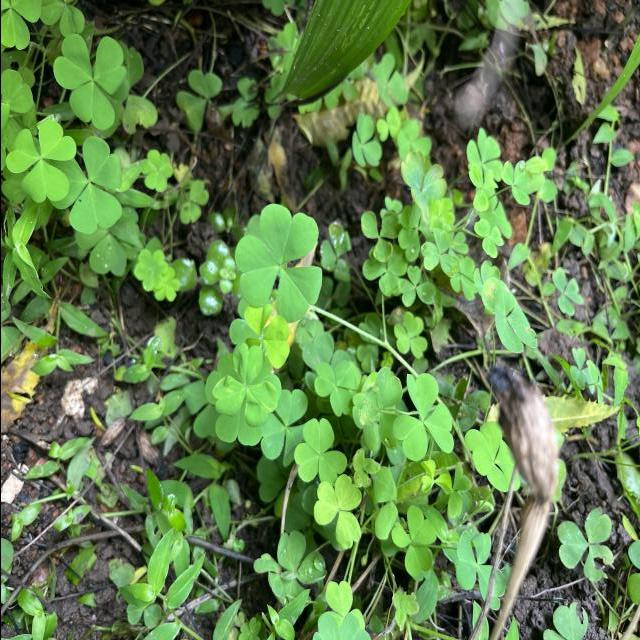Oxalis corniculata: (232, 200, 323, 326), (52, 32, 128, 132), (4, 118, 76, 205), (210, 342, 280, 428), (66, 135, 124, 235), (390, 372, 454, 462), (480, 275, 538, 354), (292, 416, 348, 488), (312, 472, 362, 550), (398, 150, 446, 226), (389, 504, 436, 578), (314, 358, 358, 418), (359, 209, 401, 263), (418, 227, 459, 279), (349, 112, 382, 168), (396, 264, 436, 308), (392, 310, 427, 360), (550, 266, 584, 316), (500, 159, 535, 207), (132, 246, 168, 292), (466, 162, 498, 212), (138, 148, 173, 193), (472, 218, 504, 260)
